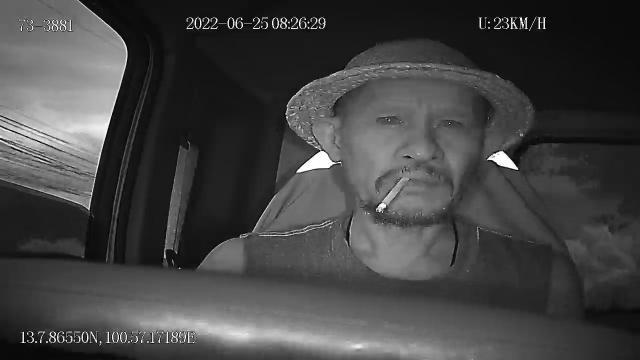SafeDriving: (371, 104, 412, 130), (429, 110, 468, 134)
Smoking: (376, 175, 408, 214)
